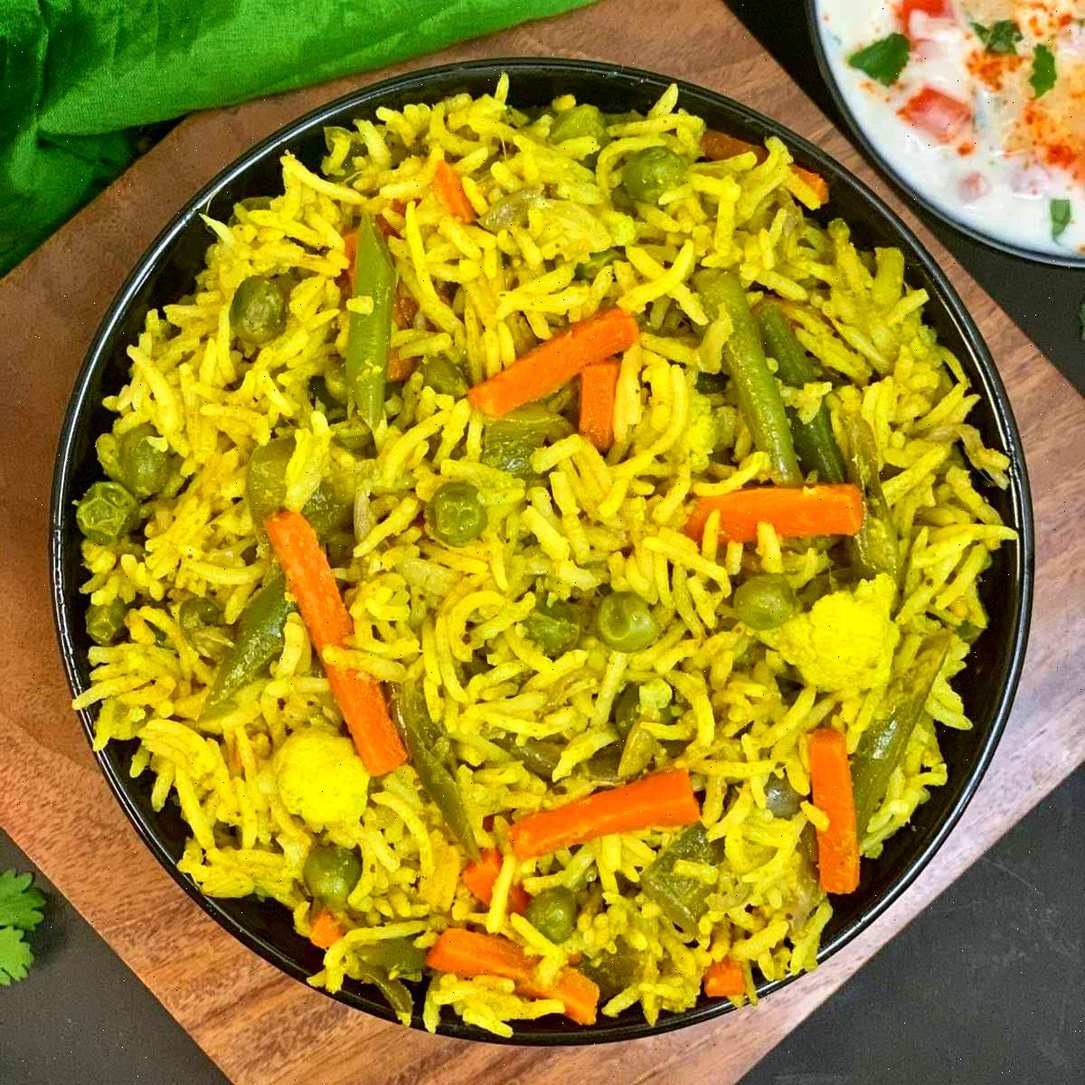veg-pulao: (173, 182, 884, 945)
